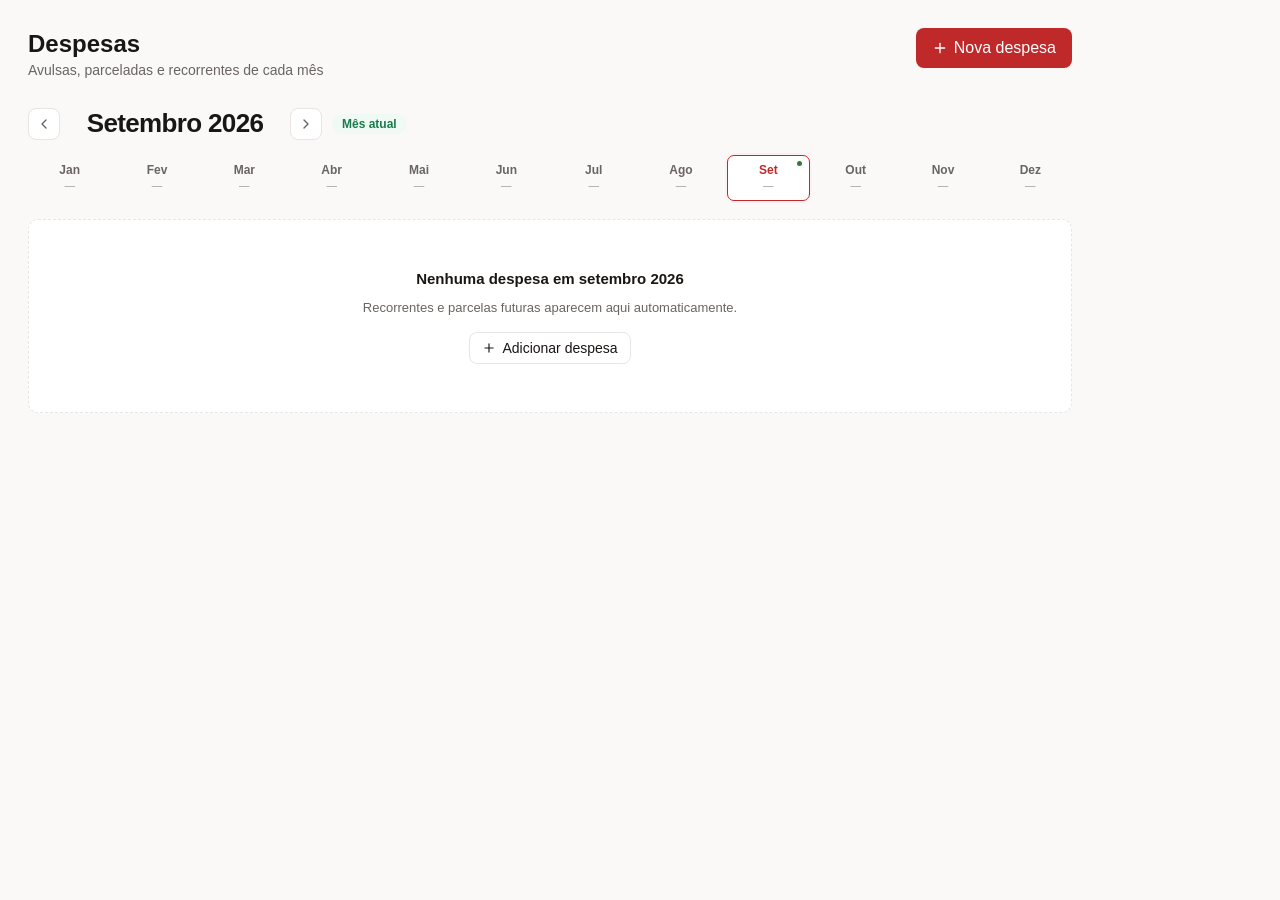
Test: página de despesas: assistente › cria uma avulsa: toast, grupo e faixa atualizados
Click the button "Nova despesa" at [994, 48], box [916,28,1072,68]
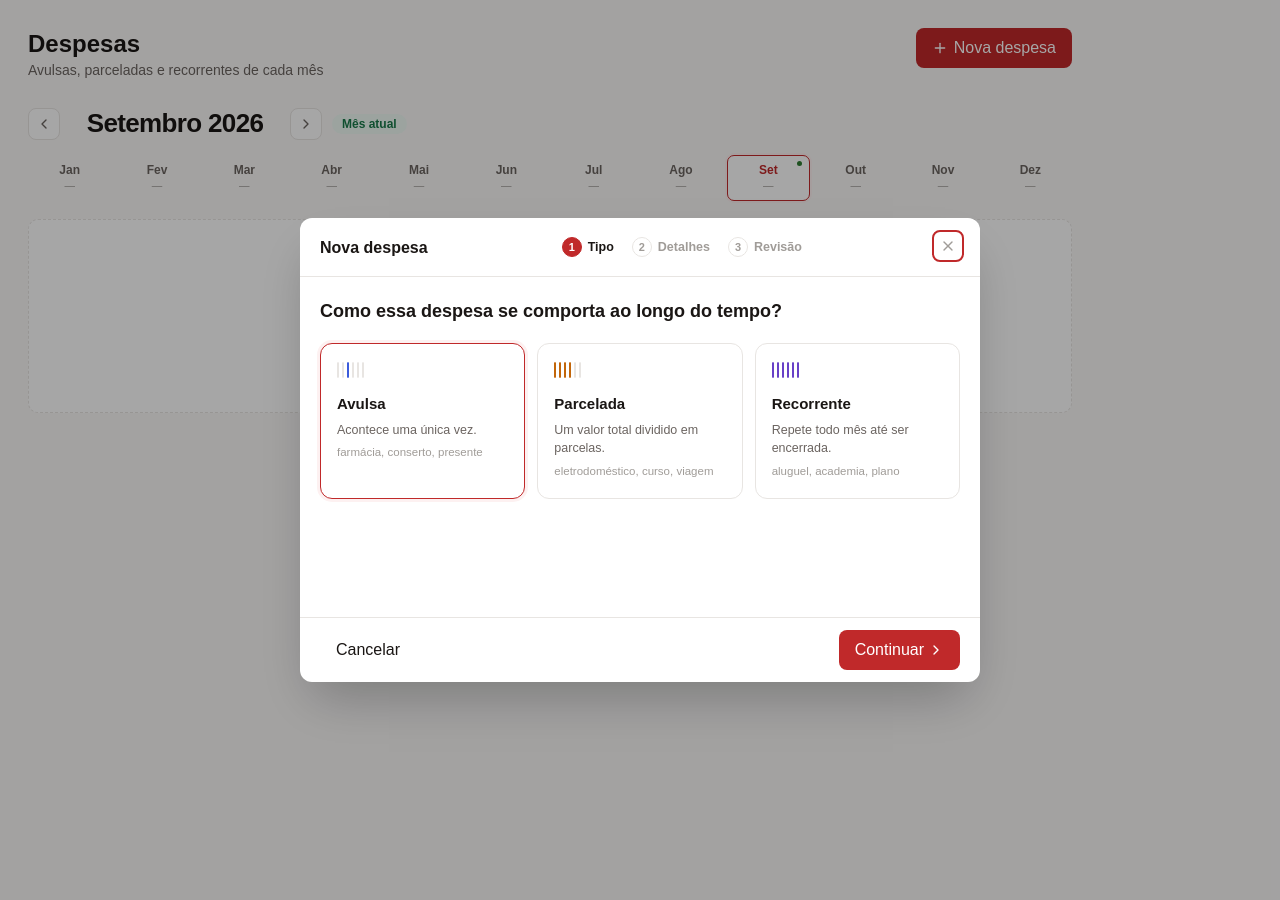
Click the button "Continuar" at [899, 650], box [839,630,960,670]
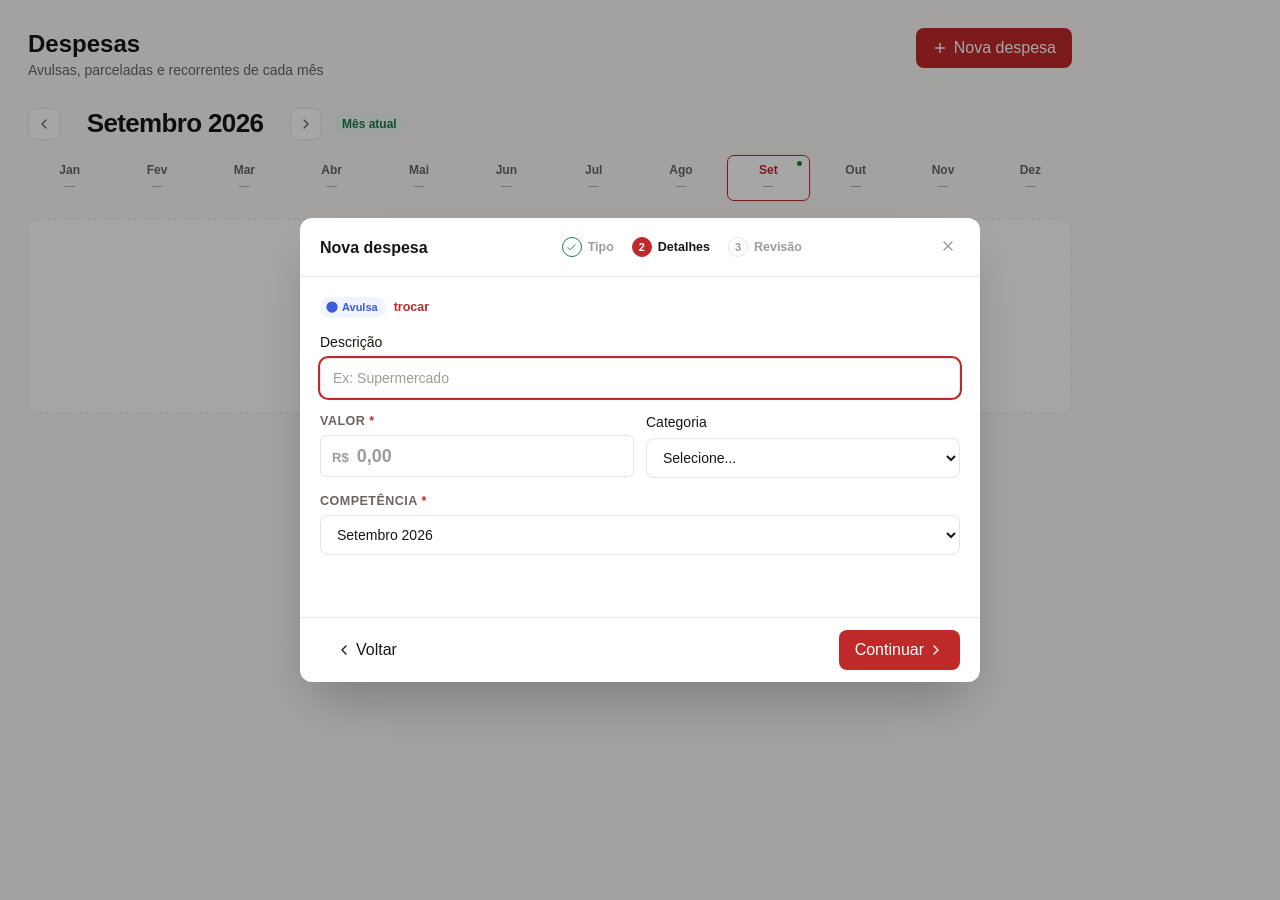
Type "Farmácia" into the field labelled "Descrição" at [640, 378], box [320,358,960,398]
Type "1.234,50" into the field labelled "Valor *" at [489, 456], box [357,442,622,470]
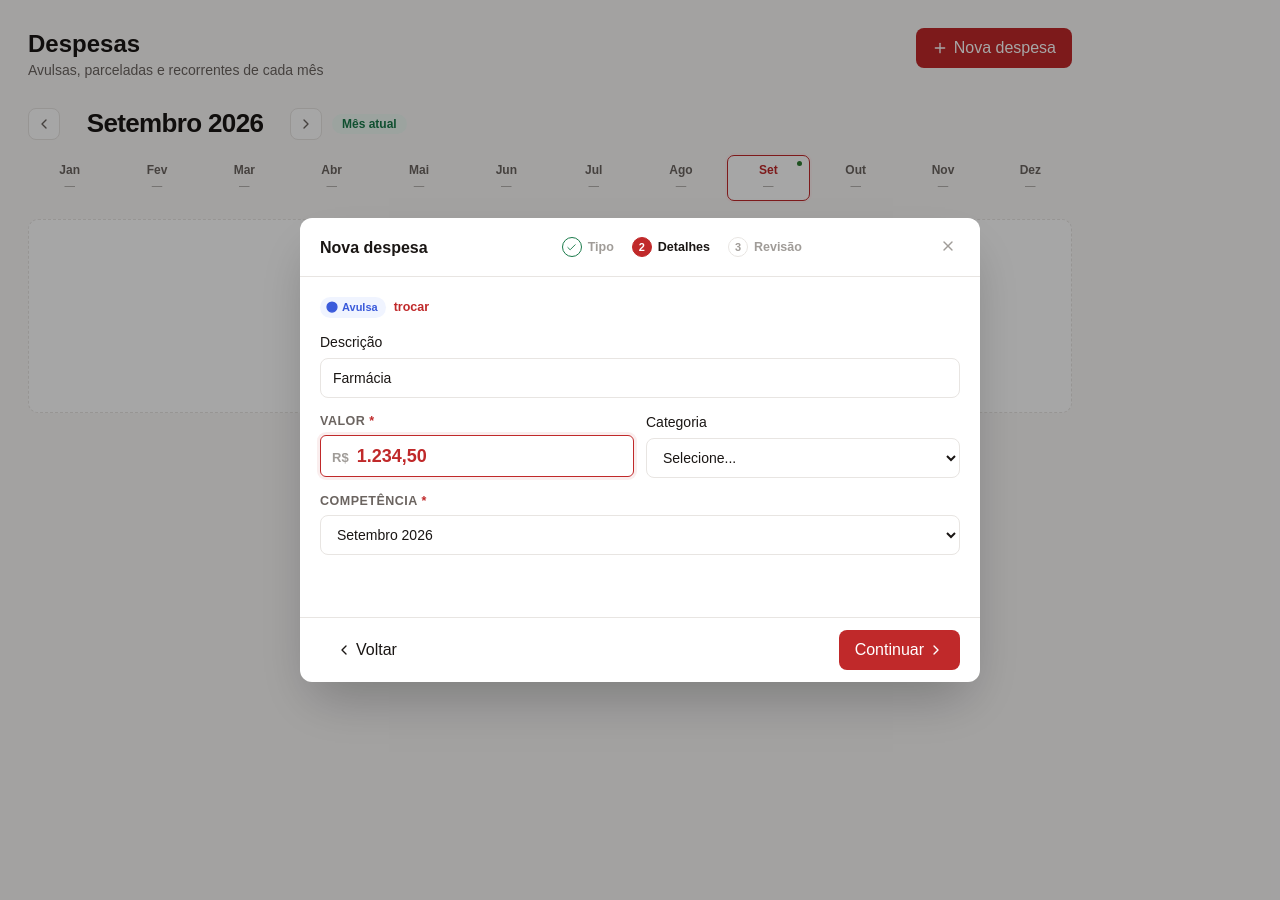
Select "Moradia" in the dropdown labelled "Categoria" at [803, 458], box [646,438,960,478]
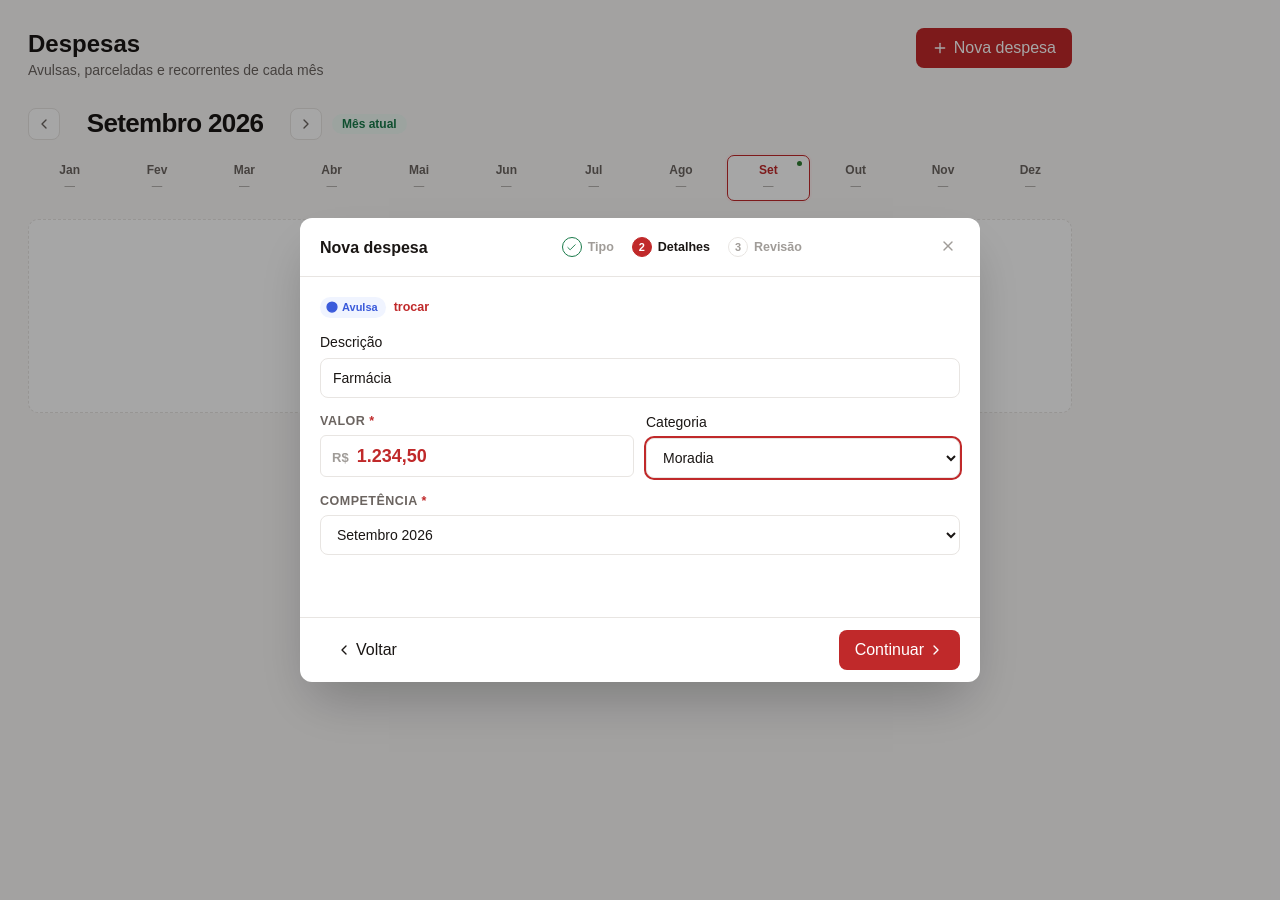
Click the button "Continuar" at [899, 650], box [839,630,960,670]
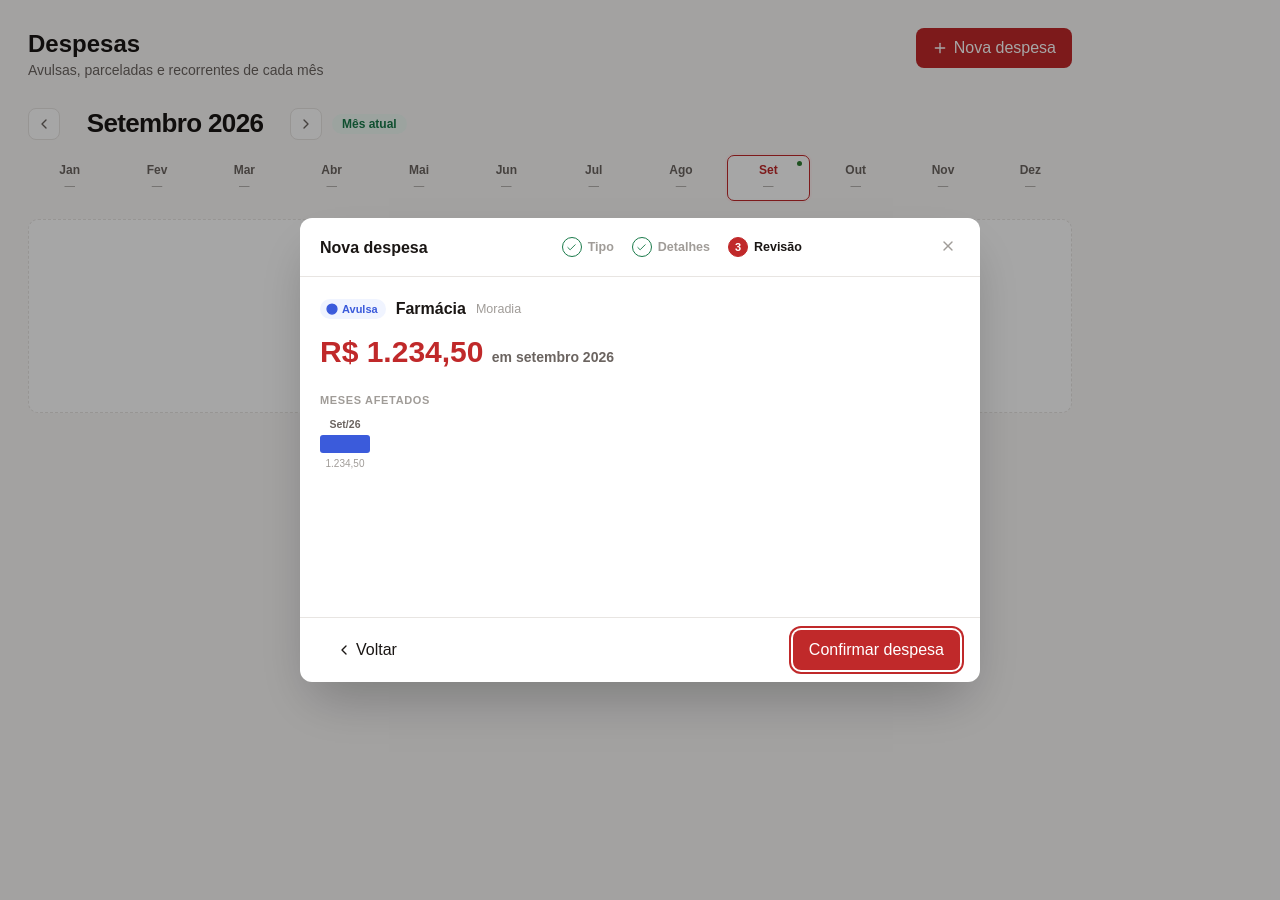
Click the button "Confirmar despesa" at [876, 650], box [793,630,960,670]
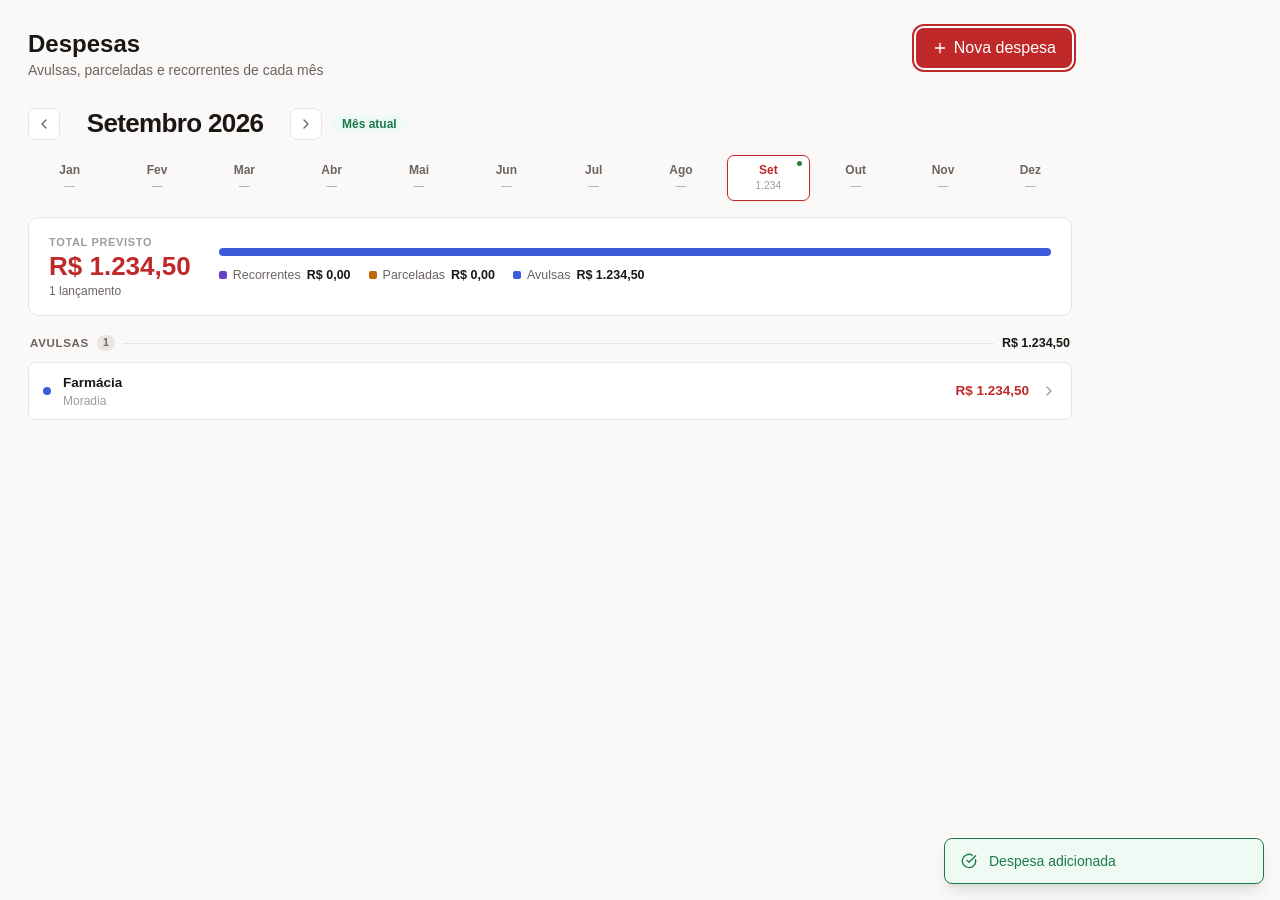
Result: the text "Farmácia" is shown at [63,374,122,390]
Result: the text "Despesa adicionada" is shown at [989,853,1116,869]
Result: the dialog is gone
